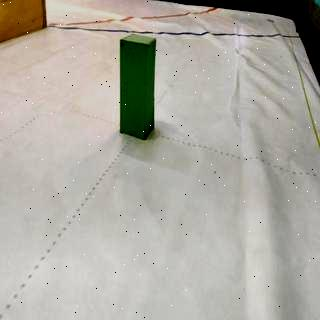greenbox: (117, 34, 159, 140)
